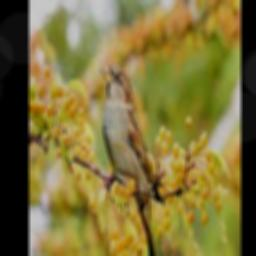Sparrow: (100, 63, 161, 256)
